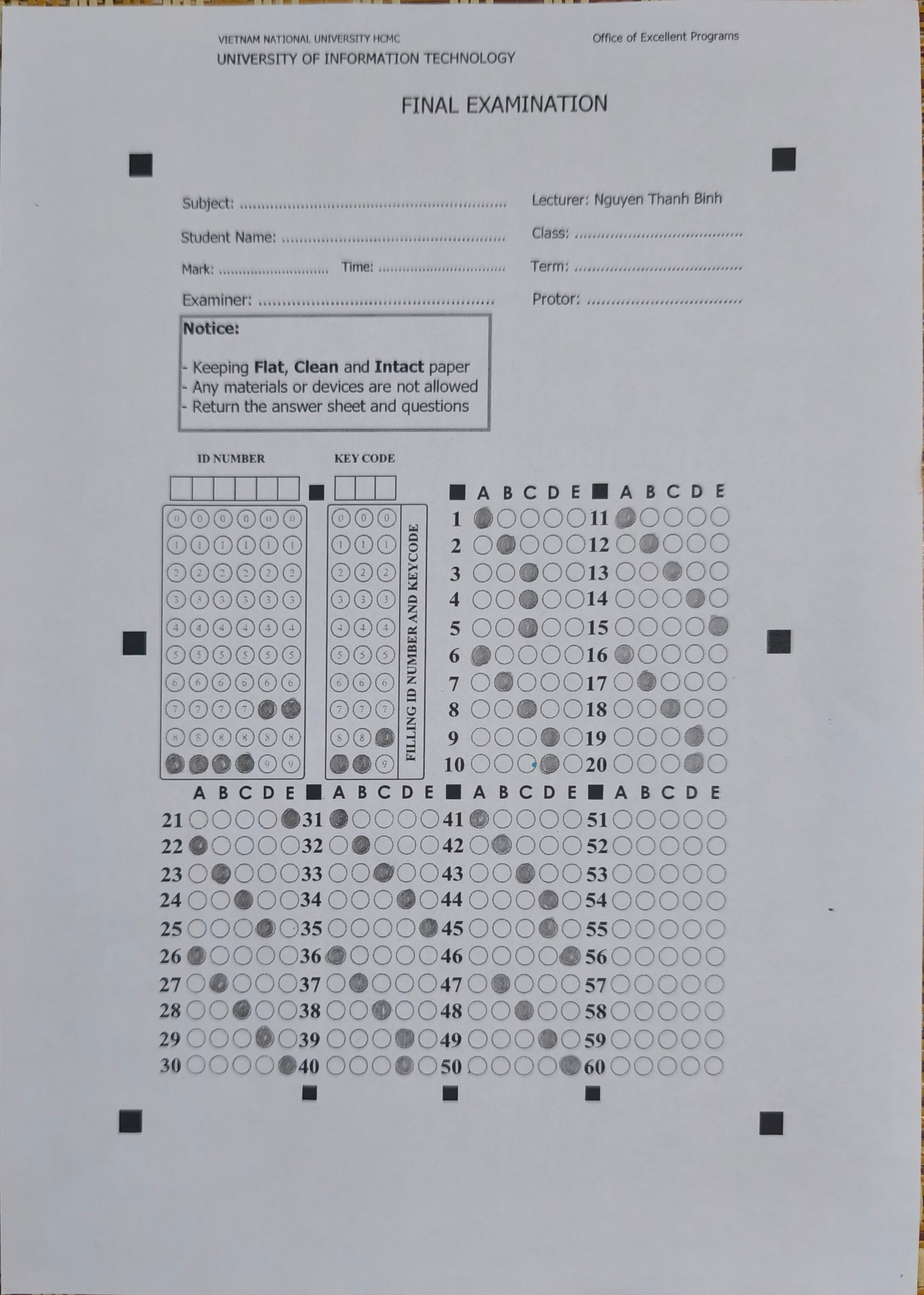info_region: (162, 506, 397, 781)
paper_region: (136, 160, 780, 1130)
q_1_20: (455, 489, 734, 793)
q_21_60: (162, 793, 734, 1094)
